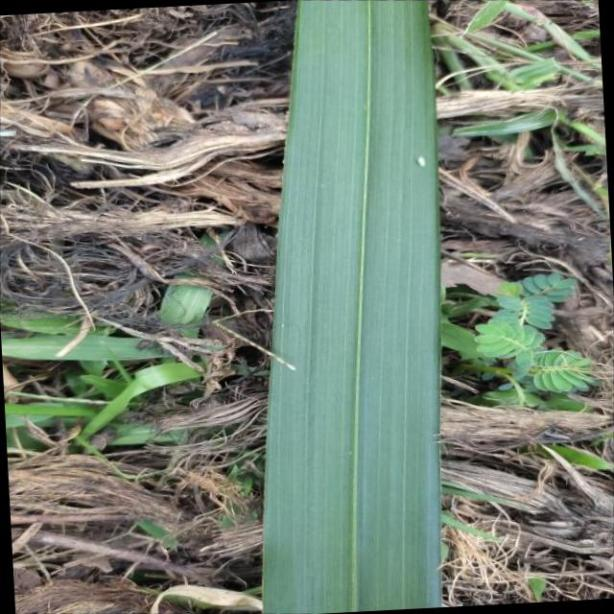Healthy: (262, 0, 443, 614)
